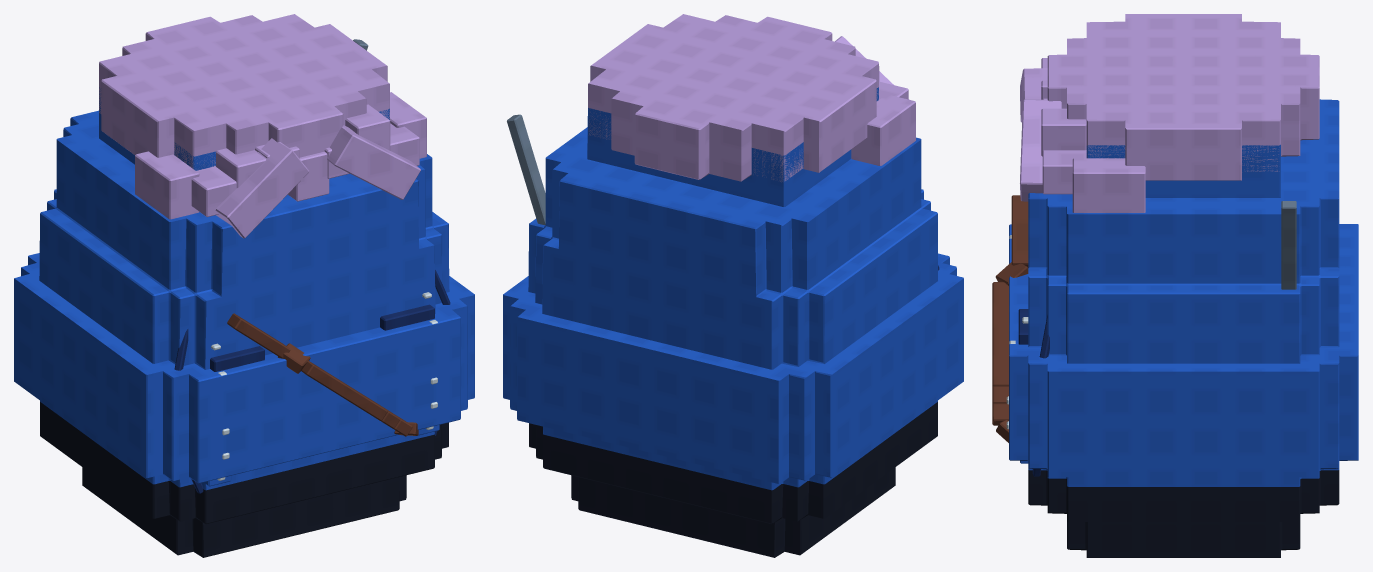
Rendered from Trunks_Egg.fbx.
3 views of the same model, side by side, from view 1: azimuth 30°, elevation 25°; view 2: azimuth 150°, elevation 25°; view 3: azimuth 270°, elevation 25° (orthographic). The views are drawn at different scales.
Parts seen in each view (by area): view 1: Trunks_Egg; view 2: Trunks_Egg; view 3: Trunks_Egg.
Part boxes in pixels (x1=…): Trunks_Egg: x1=14, y1=14, x2=474, y2=557; Trunks_Egg: x1=503, y1=14, x2=963, y2=557; Trunks_Egg: x1=992, y1=14, x2=1358, y2=557.
Size of the model in its own units: 268 by 320 by 247.
9 materials, 9 textured.
